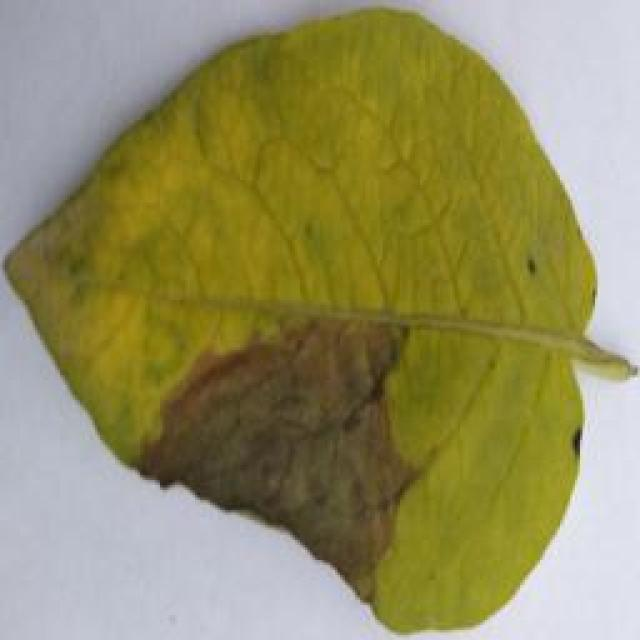Potato_Late_Blight: (4, 6, 616, 632)
